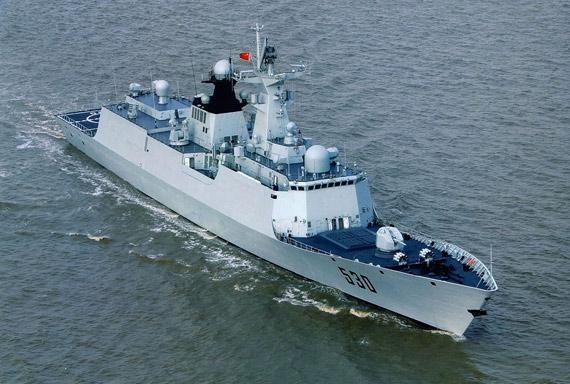warship: (53, 19, 501, 343)
